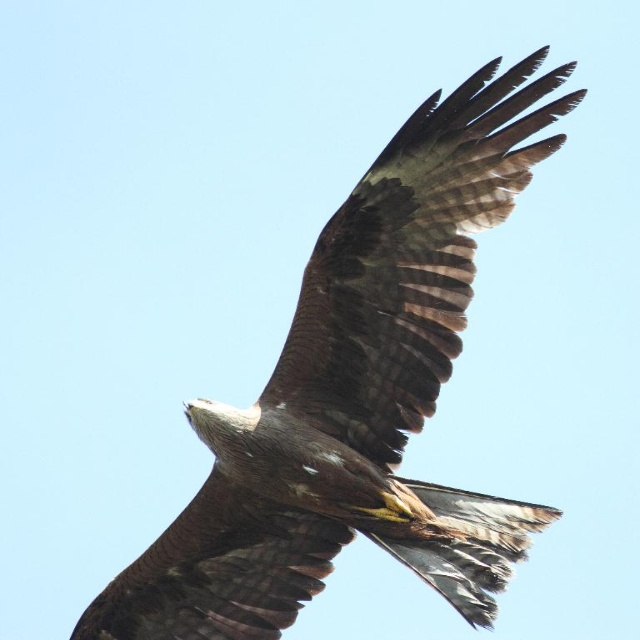Eagle: (66, 41, 589, 640)
